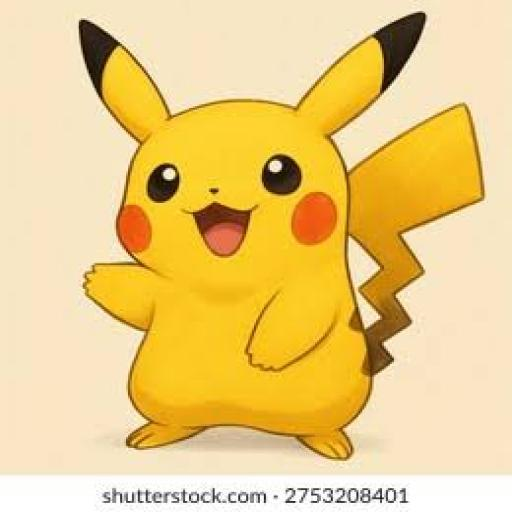Pikachu: (78, 13, 484, 461)
